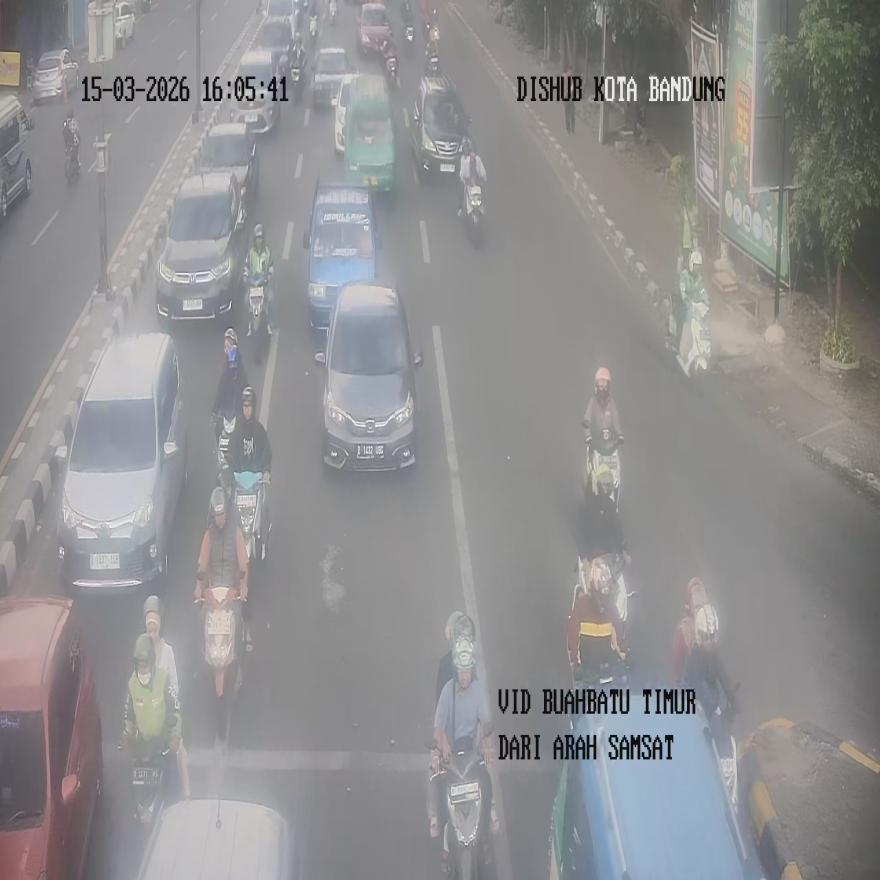Motor: (547, 674, 765, 879), (58, 333, 187, 590), (0, 595, 103, 878), (315, 280, 423, 470), (156, 169, 243, 320), (302, 179, 380, 329), (410, 72, 470, 175)
Truk: (427, 736, 492, 880), (567, 553, 631, 690), (199, 585, 244, 743), (583, 431, 622, 550), (667, 288, 710, 386), (231, 470, 270, 563), (458, 161, 484, 245), (245, 267, 271, 345), (212, 411, 236, 493), (64, 130, 80, 183), (425, 23, 440, 76), (290, 42, 305, 92), (385, 52, 398, 90), (309, 12, 318, 45), (329, 0, 337, 25)
